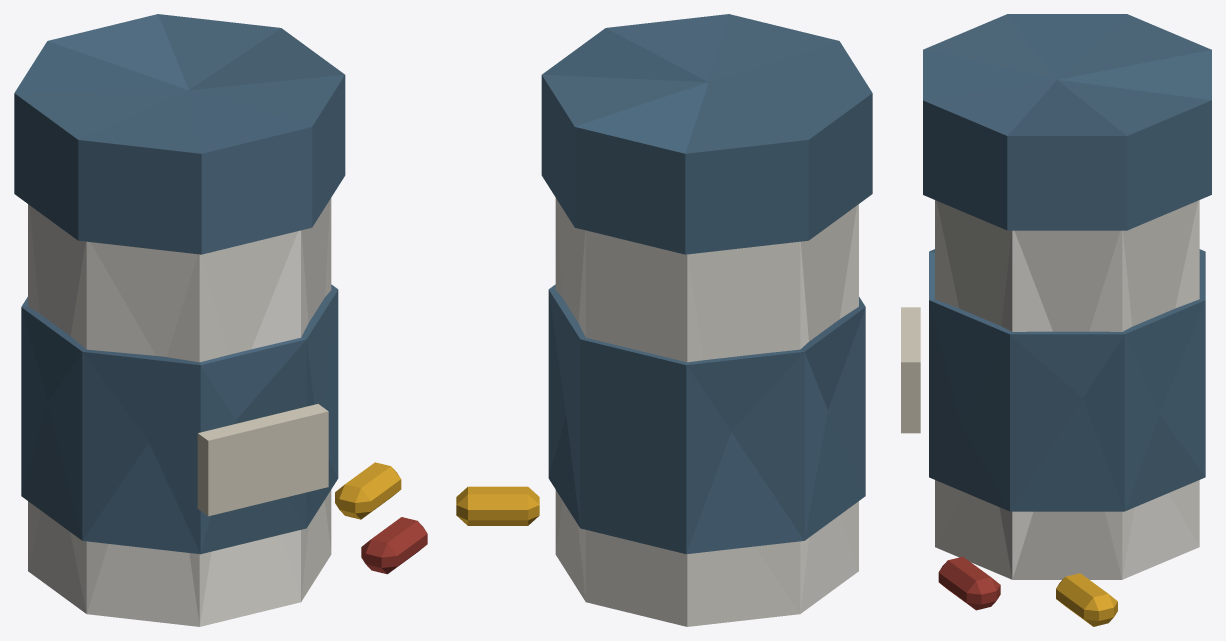
The model's file is antibiotics_shirokogo_spektra_idle.glb.
The picture shows the model from 3 angles, left to right: view 1: azimuth 30°, elevation 25°; view 2: azimuth 150°, elevation 25°; view 3: azimuth 270°, elevation 25°; orthographic projection. The views are drawn at different scales.
Visible parts, largest first — view 1: antibiotics_shirokogo_spektra_idle; view 2: antibiotics_shirokogo_spektra_idle; view 3: antibiotics_shirokogo_spektra_idle.
Boxes of the visible parts, box(x1,y1,x2,y2) form: antibiotics_shirokogo_spektra_idle: box(14, 14, 427, 626); antibiotics_shirokogo_spektra_idle: box(456, 14, 872, 626); antibiotics_shirokogo_spektra_idle: box(901, 14, 1211, 626).
Size of the model in its own units: 0.061 by 0.076 by 0.0477.
Materials: 1 (1 with a texture image).
